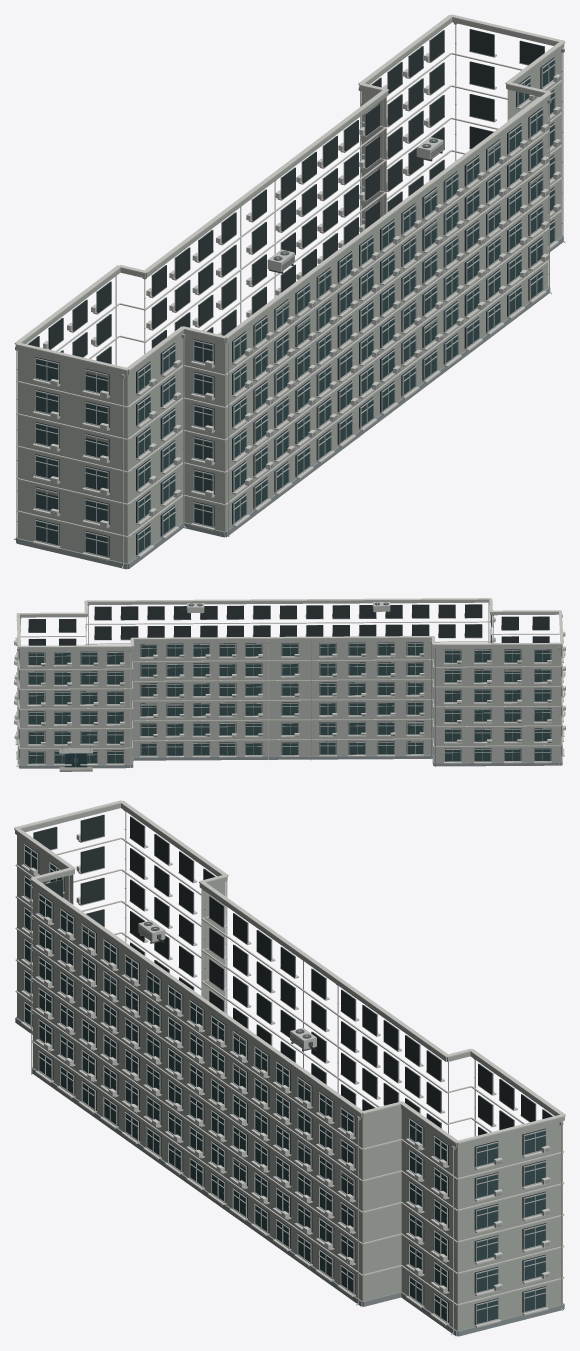
File: osm_way_225242517.glb
3 renders of one model, top to bottom at view 1: azimuth 30°, elevation 25°; view 2: azimuth 150°, elevation 25°; view 3: azimuth 270°, elevation 25°, orthographic. The views are drawn at different scales.
Parts seen in each view (by area): view 1: Windows and facade details | 33, Architecture | 33, Roof services | 33, EXTERIOR::osm_way_225242517::rainwater and roof service deta; view 2: Architecture | 33, Windows and facade details | 33, Roof services | 33, EXTERIOR::osm_way_225242517::rainwater and roof service deta, EXTERIOR::osm_way_225242517::inferred entry doors canopy and; view 3: Windows and facade details | 33, Architecture | 33, Roof services | 33, EXTERIOR::osm_way_225242517::rainwater and roof service deta.
Boxes of the visible parts, x1,y1,x2,y2 form: Windows and facade details | 33: (27,29,560,560); Architecture | 33: (15,18,564,569); Roof services | 33: (14,14,565,370); EXTERIOR::osm_way_225242517::rainwater and roof service deta: (14,23,565,568); Architecture | 33: (18,600,562,768); Windows and facade details | 33: (14,603,565,766); Roof services | 33: (16,598,563,647); EXTERIOR::osm_way_225242517::rainwater and roof service deta: (16,602,562,768); EXTERIOR::osm_way_225242517::inferred entry doors canopy and: (59,746,92,771); Windows and facade details | 33: (21,814,553,1327); Architecture | 33: (15,804,564,1336); Roof services | 33: (14,800,565,1143); EXTERIOR::osm_way_225242517::rainwater and roof service deta: (68,810,563,1335).
Size of the model in its own units: 74.66 by 20.58 by 50.82.
